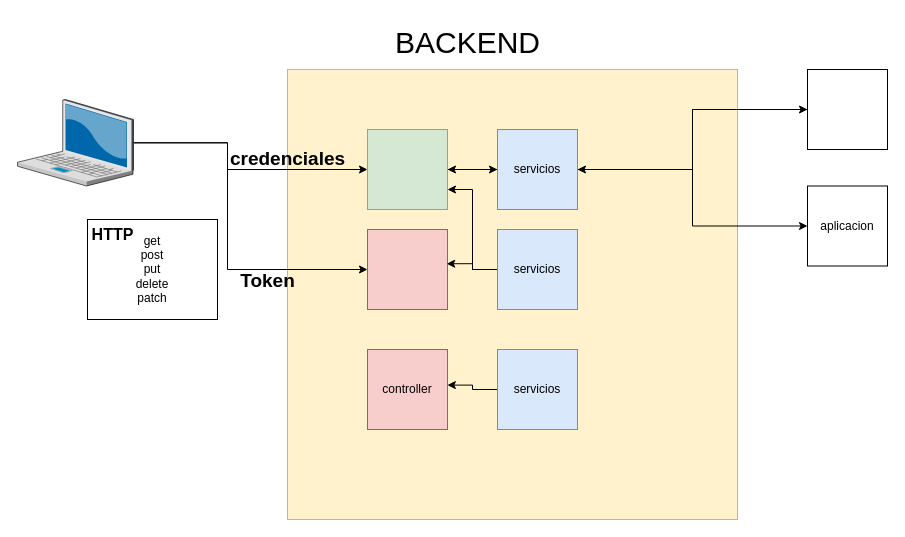
This 905x537 diagram has some shape labels left out. The shapes that lost their labels are listed below. From the top down, each one's centre as x and y in pixels, then its label:
At (847,109): "bdd".
At (407,169): "controller path auth metodos path".
At (407,269): "controller user".
